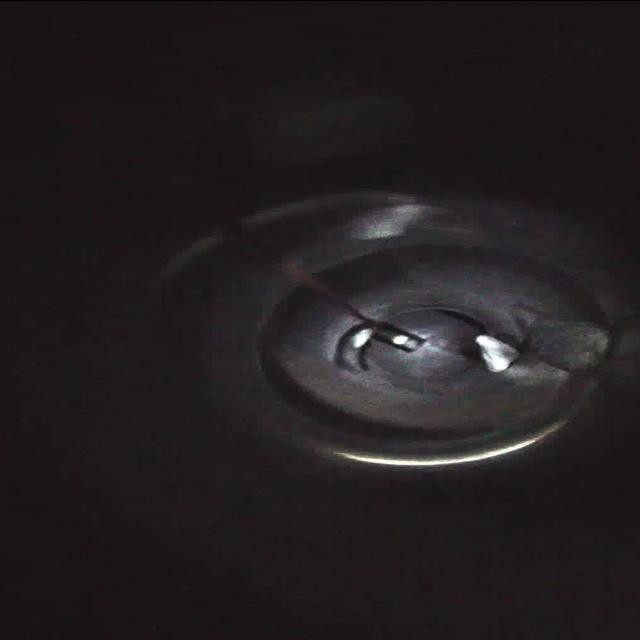impurity: (529, 315, 617, 373), (471, 330, 524, 375)
